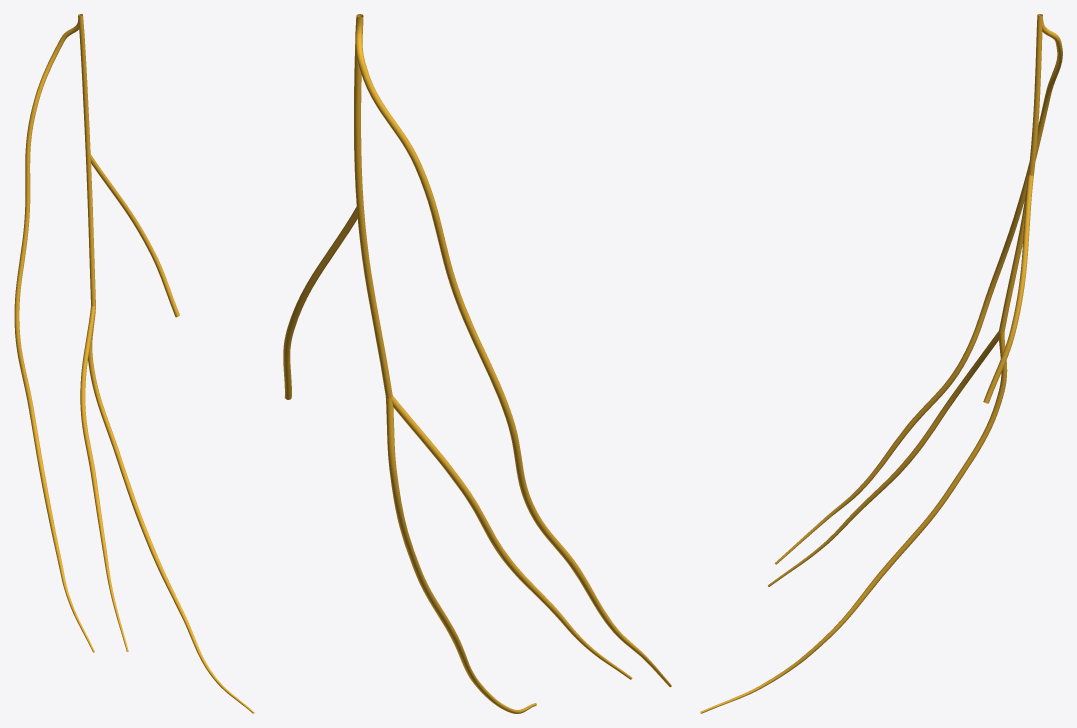
File: nervoso-common-palmar-digital-branches-of-ulnar-nerve-l.glb
3 views of the same model, side by side, from view 1: azimuth 30°, elevation 25°; view 2: azimuth 150°, elevation 25°; view 3: azimuth 270°, elevation 25° (orthographic). The views are drawn at different scales.
Parts seen in each view (by area): view 1: Proper palmar digital branches of ulnar nerve.l, Common palmar digital branches of ulnar nerve.l; view 2: Proper palmar digital branches of ulnar nerve.l, Common palmar digital branches of ulnar nerve.l; view 3: Proper palmar digital branches of ulnar nerve.l, Common palmar digital branches of ulnar nerve.l.
Part boxes in pixels (<box>): Proper palmar digital branches of ulnar nerve.l: <box>14,14,254,713</box>; Common palmar digital branches of ulnar nerve.l: <box>78,14,179,317</box>; Proper palmar digital branches of ulnar nerve.l: <box>355,14,671,713</box>; Common palmar digital branches of ulnar nerve.l: <box>283,14,392,399</box>; Proper palmar digital branches of ulnar nerve.l: <box>700,14,1062,713</box>; Common palmar digital branches of ulnar nerve.l: <box>983,14,1042,403</box>.
Bounding box in the file's own units: 0.0416 × 0.1306 × 0.0627.
